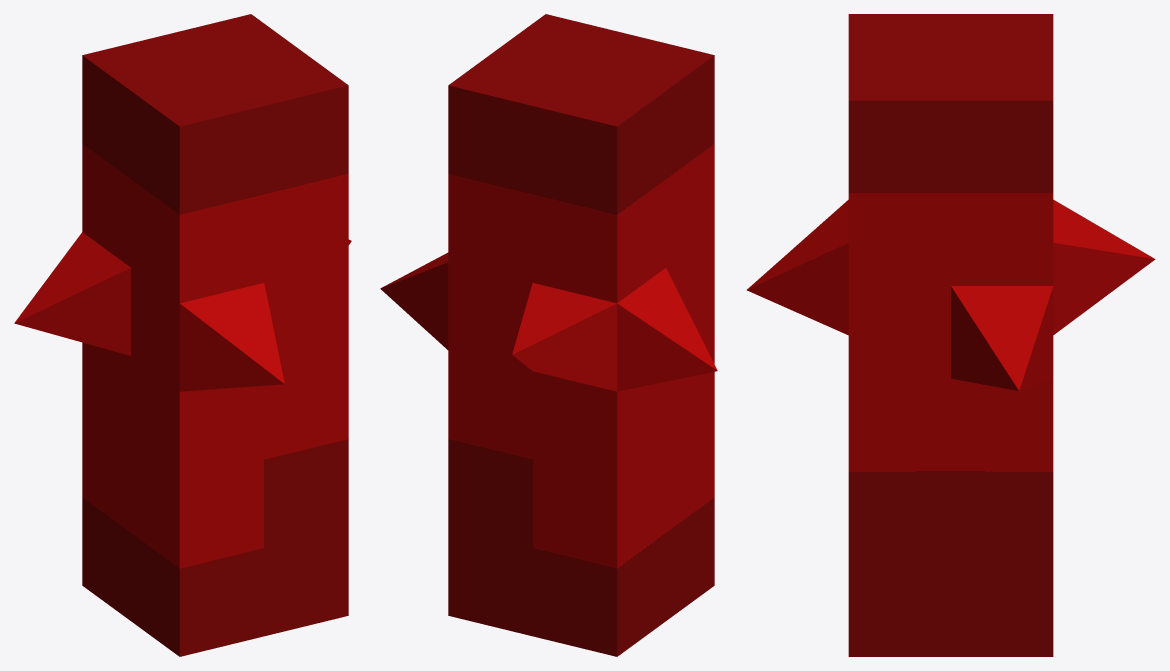
The model's file is obj_house8.FBX.
The picture shows the model from 3 angles, left to right: view 1: azimuth 30°, elevation 25°; view 2: azimuth 150°, elevation 25°; view 3: azimuth 270°, elevation 25°; orthographic projection. The views are drawn at different scales.
Visible parts, largest first — view 1: obj_hydrant; view 2: obj_hydrant; view 3: obj_hydrant.
Part boxes in pixels (box(x1,y1,x2,y2)): obj_hydrant: box(14, 14, 351, 656); obj_hydrant: box(380, 14, 717, 656); obj_hydrant: box(746, 14, 1155, 656).
Size of the model in its own units: 15.75 by 23.62 by 15.75.
